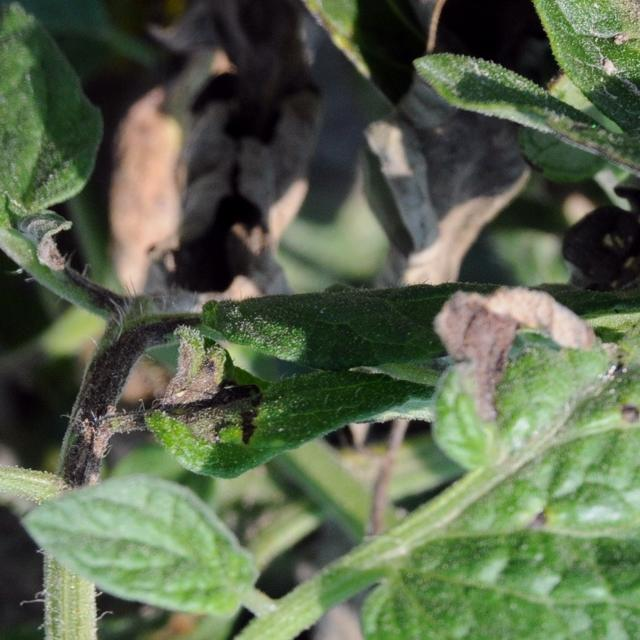Tomato leaf late blight: (368, 252, 640, 605), (486, 0, 640, 224)
